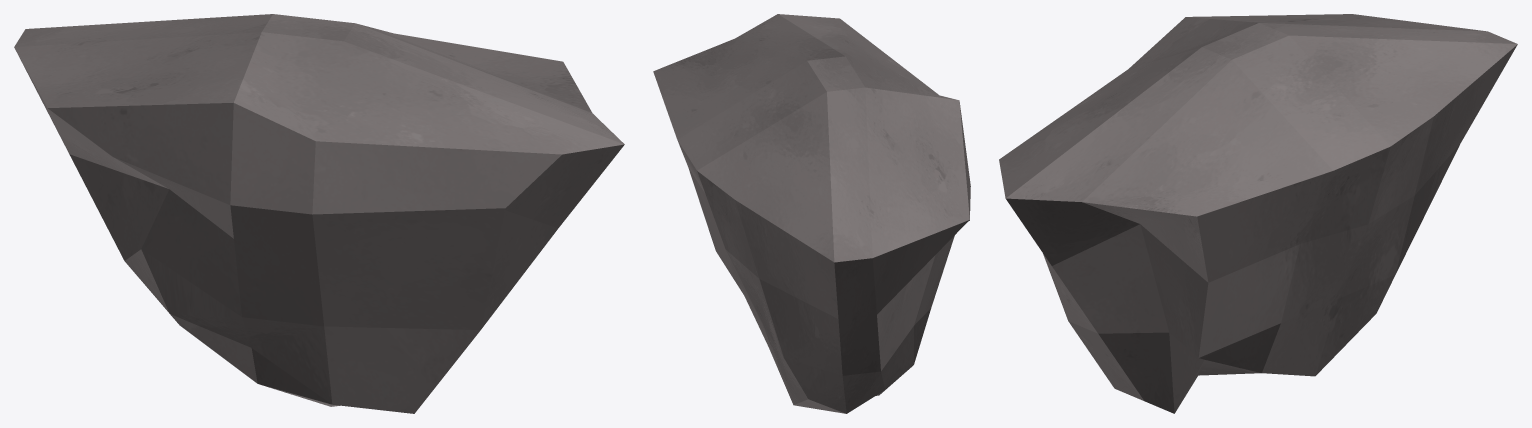
The model's file is Stone_ver1.fbx.
3 renders of one model, left to right at view 1: azimuth 30°, elevation 25°; view 2: azimuth 150°, elevation 25°; view 3: azimuth 270°, elevation 25°, orthographic. The views are drawn at different scales.
Visible parts, largest first — view 1: Cube.058; view 2: Cube.058; view 3: Cube.058.
Boxes of the visible parts, x1=… form: Cube.058: x1=14, y1=14, x2=624, y2=413; Cube.058: x1=653, y1=14, x2=970, y2=413; Cube.058: x1=999, y1=14, x2=1517, y2=413.
Size of the model in its own units: 274 by 208 by 297.
